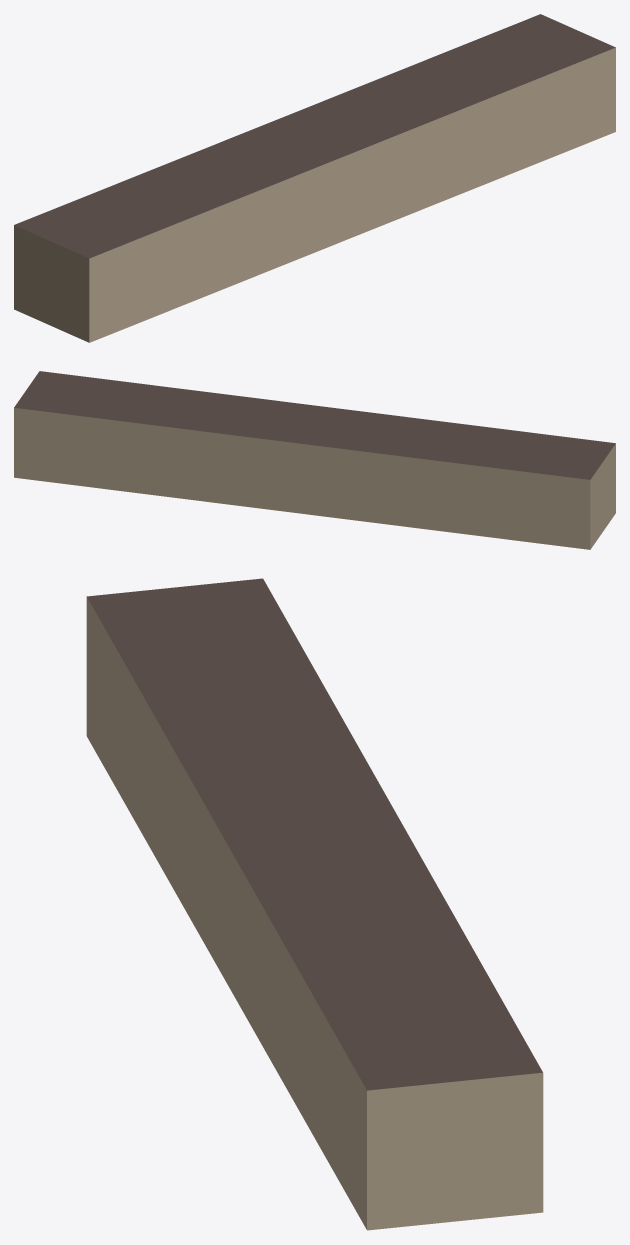
The picture shows the model from 3 angles, top to bottom: view 1: azimuth 30°, elevation 25°; view 2: azimuth 150°, elevation 25°; view 3: azimuth 270°, elevation 25°; orthographic projection. The views are drawn at different scales.
Visible parts, largest first — view 1: HP-w1233759518; view 2: HP-w1233759518; view 3: HP-w1233759518.
Part boxes in pixels (left/top/right/bottom): HP-w1233759518: left=14, top=14, right=615, bottom=342; HP-w1233759518: left=14, top=371, right=615, bottom=549; HP-w1233759518: left=86, top=578, right=543, bottom=1230.
Bounding box in the file's own units: 70.65 × 9 × 26.61.
